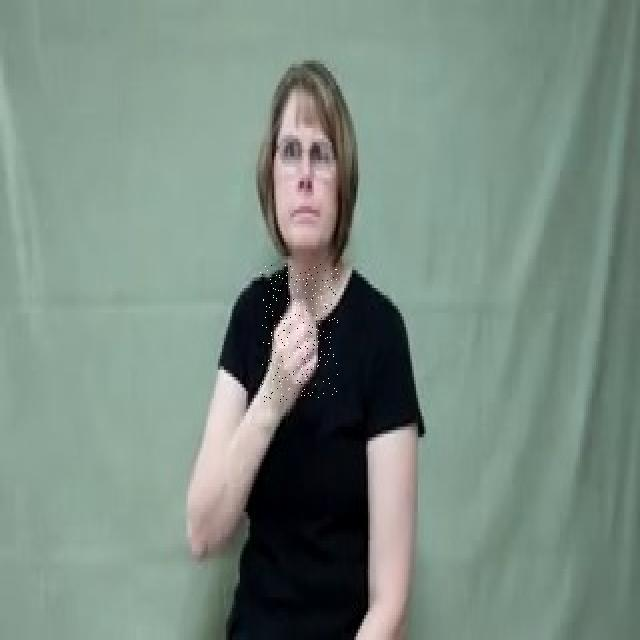warm: (260, 264, 338, 402)
